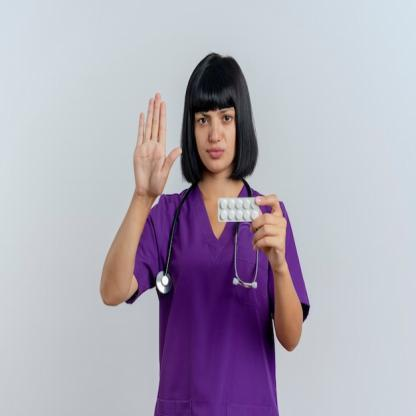stop: (132, 88, 184, 200)
